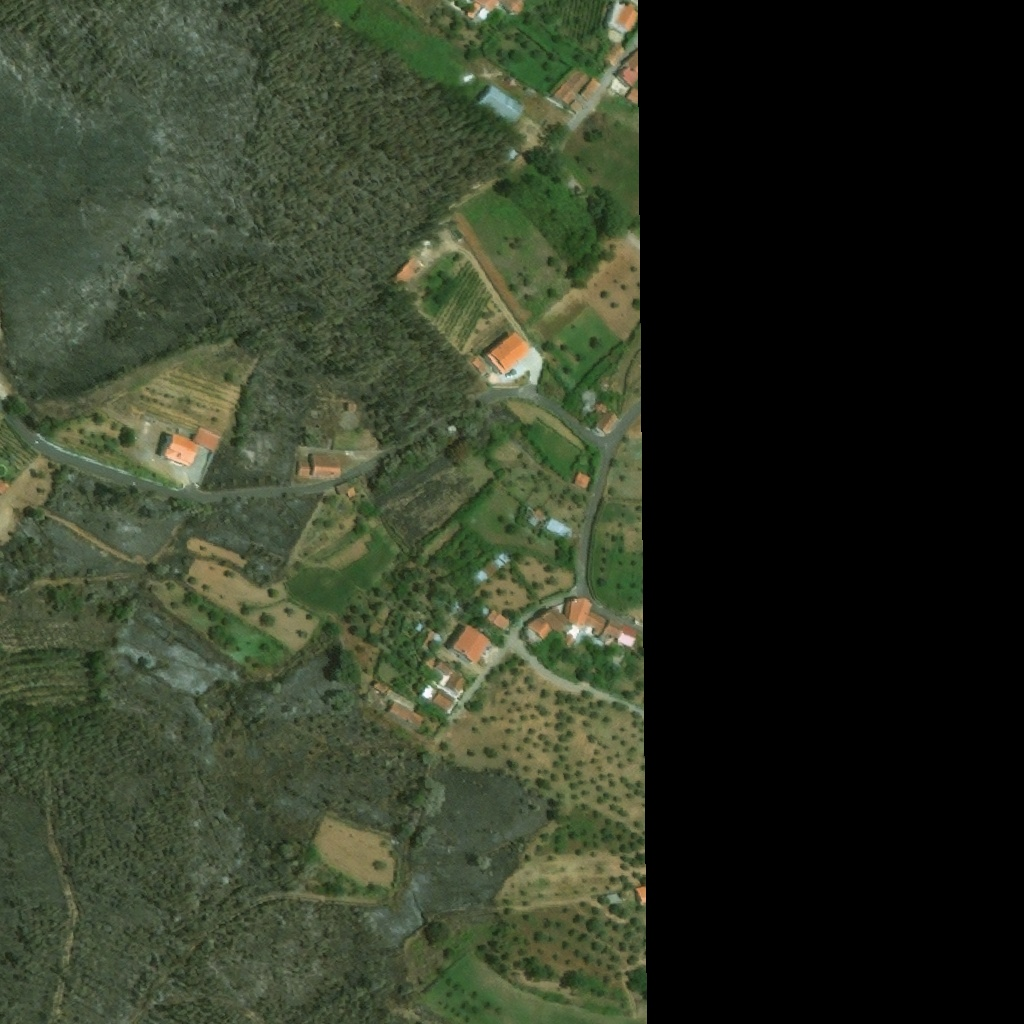0 no-damage: (485, 332, 533, 377), (475, 86, 526, 127), (449, 624, 493, 666), (564, 597, 607, 637), (469, 554, 513, 588), (161, 433, 202, 468), (614, 42, 644, 89), (552, 70, 591, 106), (605, 0, 639, 38), (410, 621, 446, 655), (387, 702, 426, 729), (523, 618, 554, 648), (534, 609, 569, 633), (195, 426, 221, 453), (395, 260, 420, 287), (486, 608, 513, 633), (312, 456, 341, 479), (433, 688, 457, 714), (599, 621, 624, 643), (544, 519, 570, 540), (580, 78, 602, 102), (446, 673, 469, 695), (604, 43, 625, 67), (597, 414, 618, 435), (526, 509, 547, 529), (625, 88, 644, 106), (573, 474, 591, 491), (635, 888, 651, 906), (594, 402, 609, 417), (437, 661, 453, 675), (373, 682, 390, 695), (605, 894, 621, 907), (296, 462, 311, 475), (472, 358, 484, 370)
4 un-classified: (499, 0, 526, 17), (468, 0, 501, 13), (449, 596, 467, 618), (0, 476, 12, 497)
